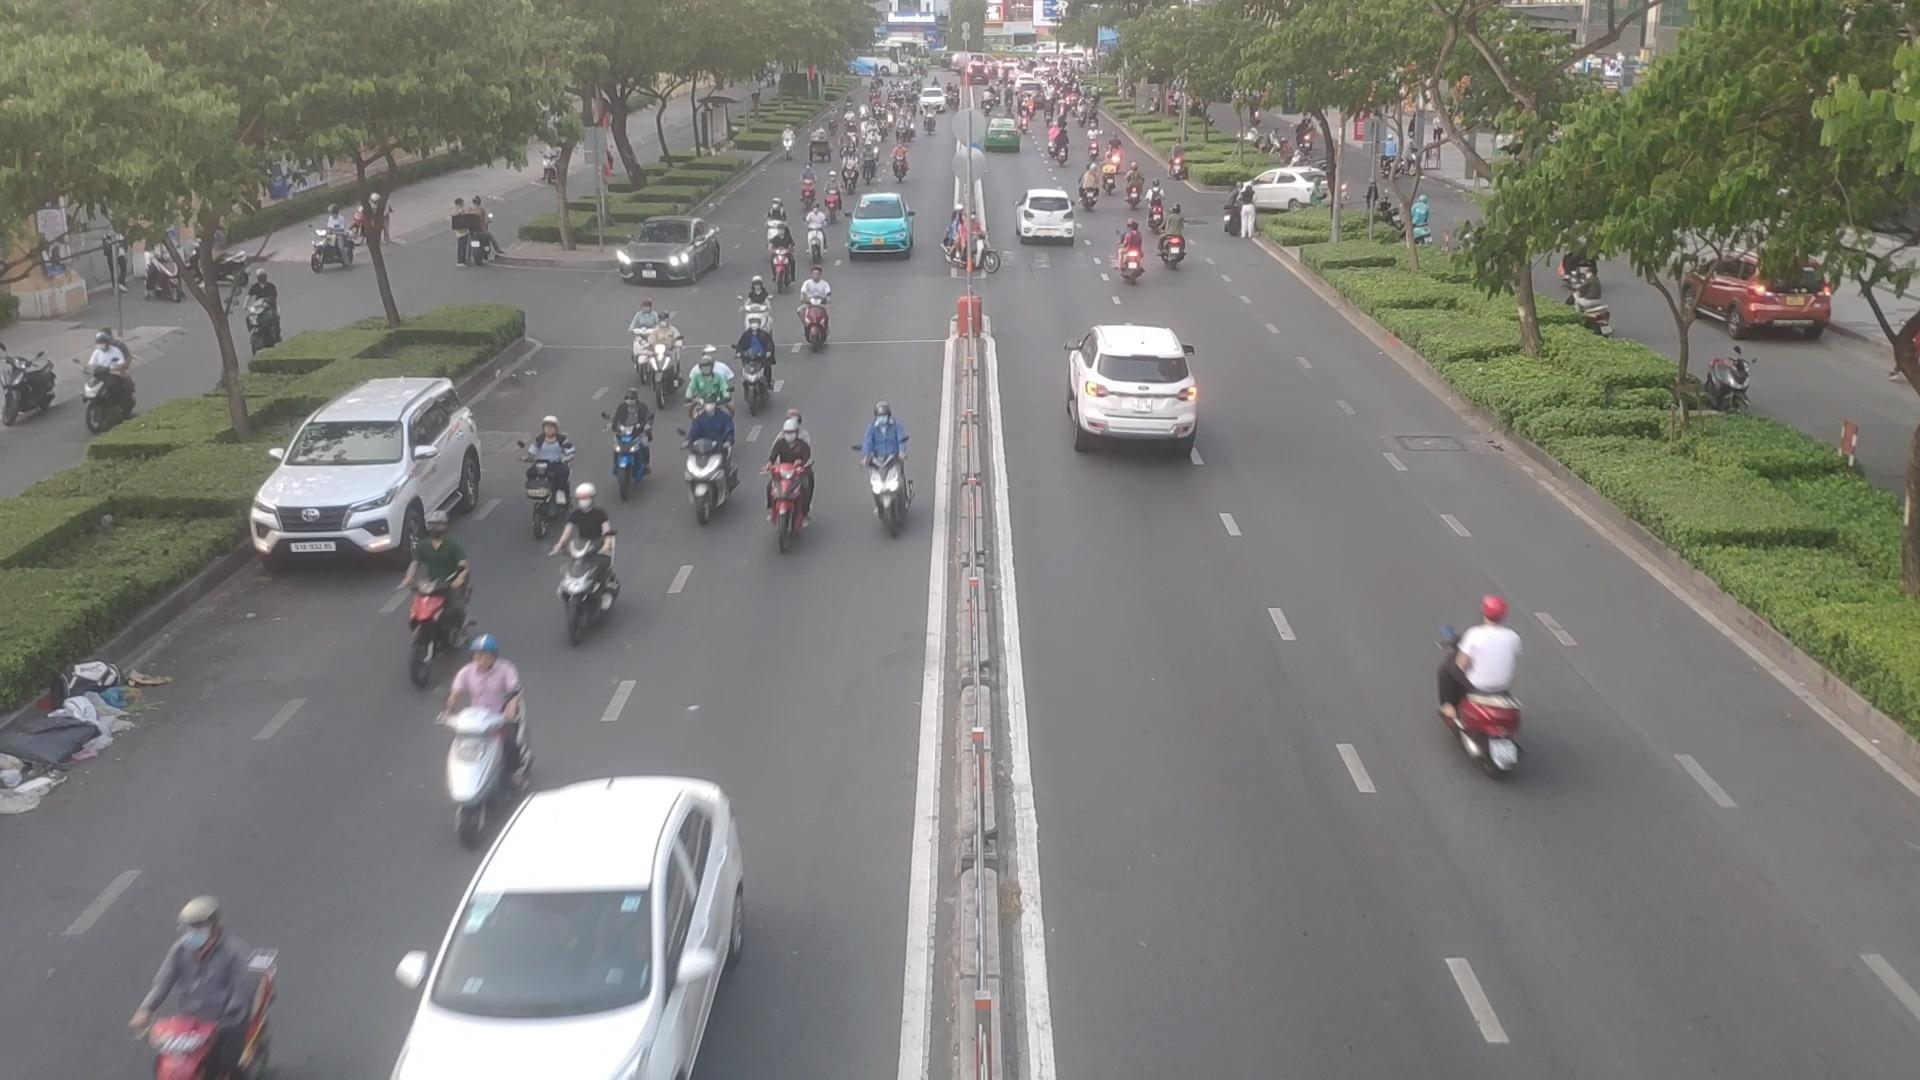car: (411, 775, 758, 1080), (253, 378, 488, 570), (1067, 324, 1200, 444), (1688, 243, 1836, 339), (618, 219, 728, 287), (841, 190, 913, 261), (1238, 167, 1332, 214), (1015, 187, 1081, 244)
motorbike: (100, 895, 291, 1080), (1448, 604, 1528, 789), (450, 626, 521, 829), (535, 493, 626, 647), (832, 400, 916, 550), (512, 404, 587, 538), (405, 535, 467, 692), (678, 402, 746, 522), (765, 414, 832, 531), (608, 298, 662, 385), (741, 316, 786, 401), (800, 266, 839, 353), (731, 280, 778, 349), (621, 389, 655, 480), (691, 345, 735, 417), (655, 313, 688, 400), (945, 228, 990, 290), (1160, 202, 1197, 269), (760, 195, 789, 264), (771, 231, 799, 287), (1112, 228, 1145, 276), (1076, 164, 1106, 214), (1146, 179, 1170, 231), (808, 207, 828, 258), (1129, 160, 1149, 210)
